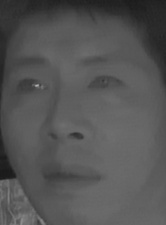eye: (87, 70, 127, 97), (10, 77, 50, 99)
mouth: (38, 157, 100, 194)
